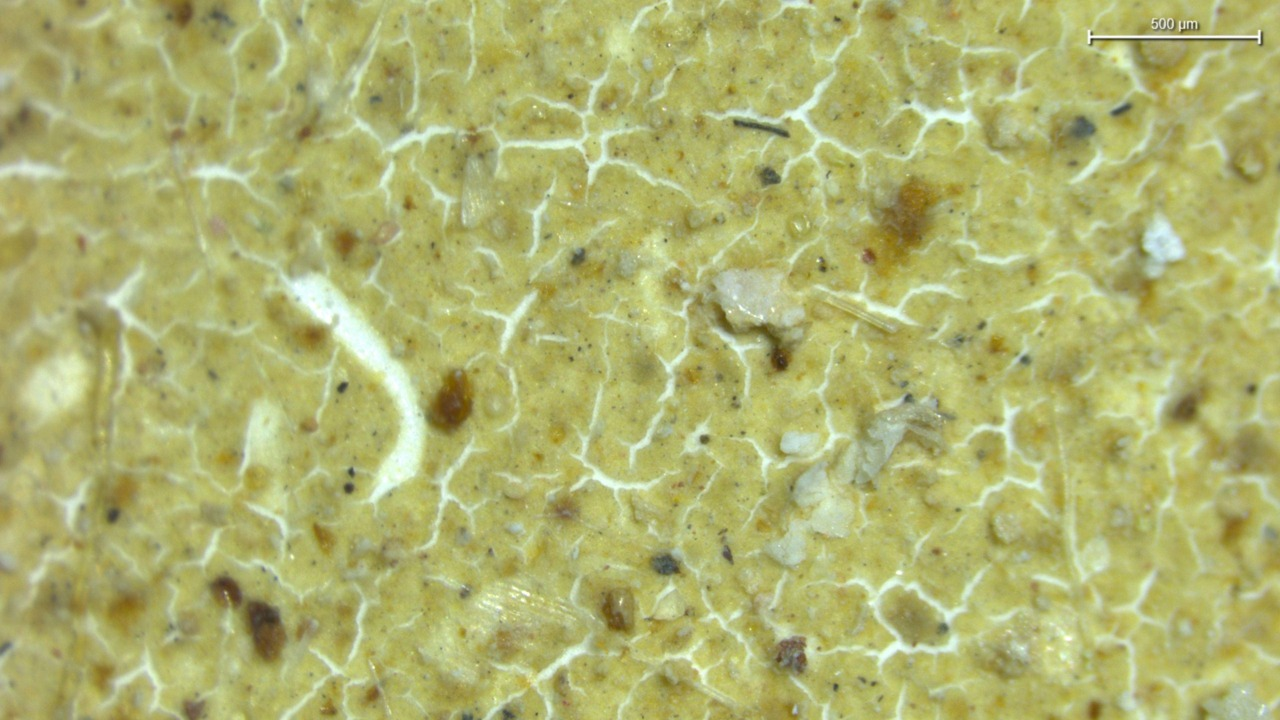microplastic_fragment: (712, 269, 804, 348), (1142, 214, 1185, 263), (810, 494, 854, 537), (792, 461, 831, 508), (766, 526, 806, 567), (780, 431, 818, 455)
